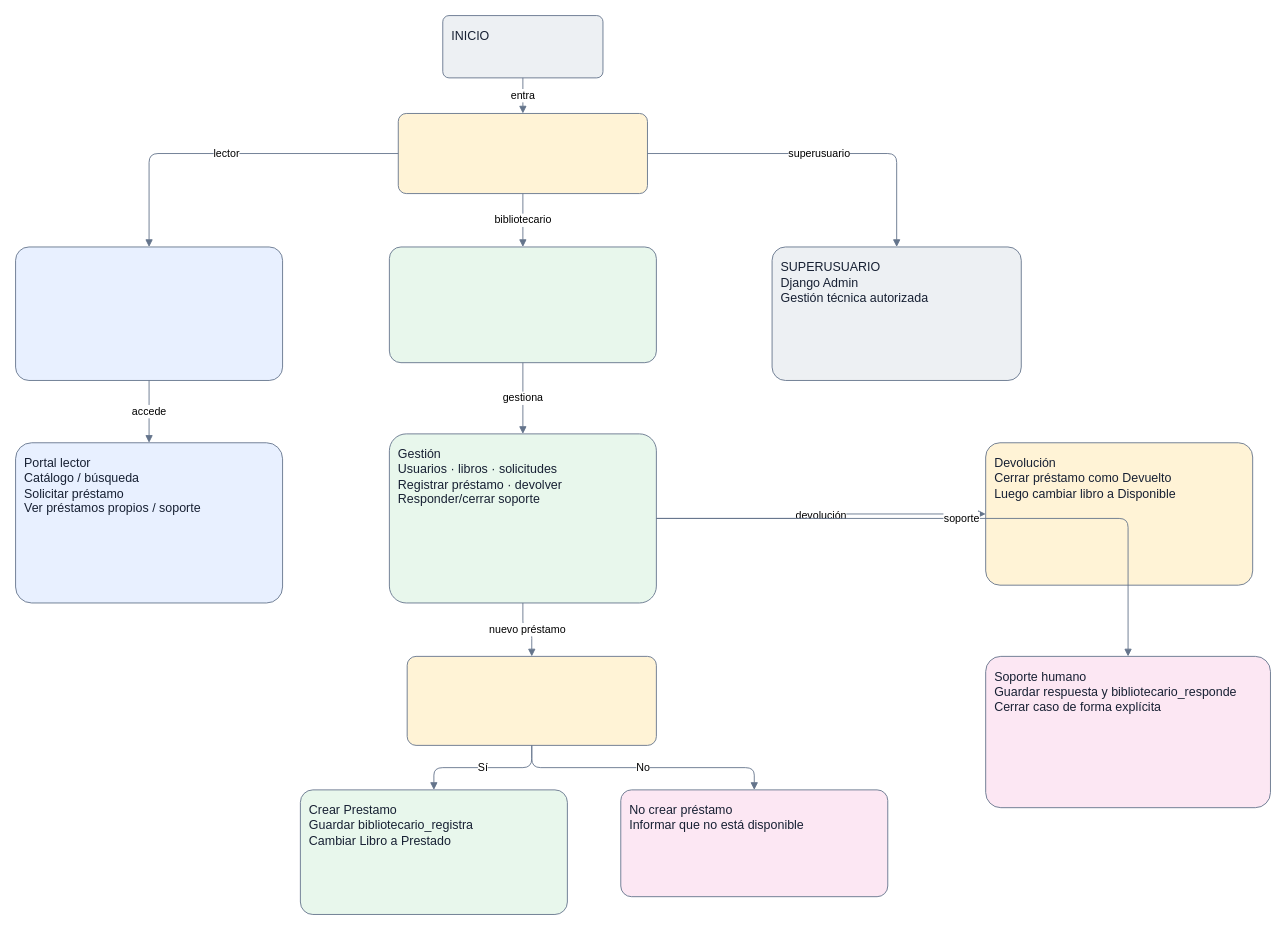
Some shapes in this 1286 by 930 pixel diagram are drawn without their labels. Each missing label, with the centre of its shape:
"BIBLIOTECARIO Login de personal independiente" belongs at (522,304).
"LECTOR Registro / login Perfil vinculado a Usuario" belongs at (149,313).
"¿Libro disponible y sin préstamo activo?" belongs at (531,700).
"¿Tipo de acceso?" belongs at (522,153).
